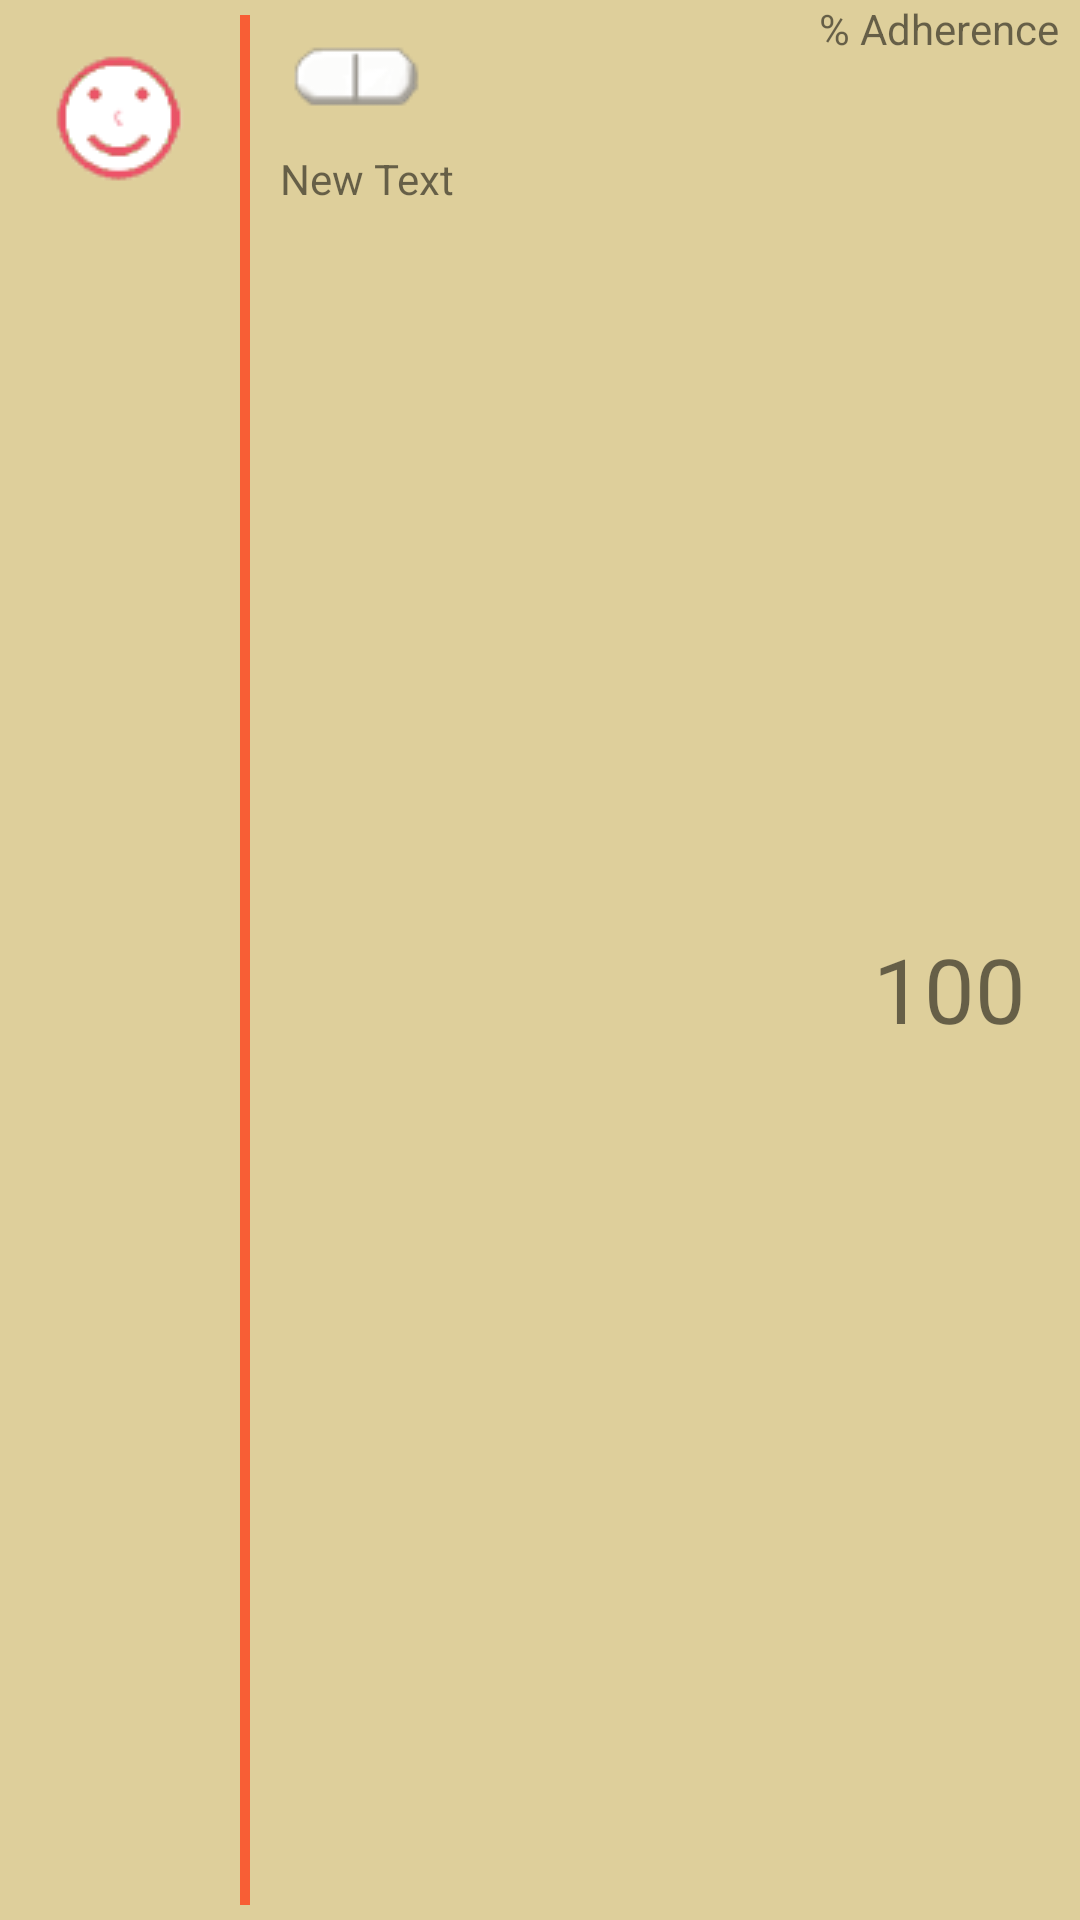

Point at icon controls on the screen. Image size 1080 × 1920, points as (x,y).
good adherence: (118,118)
